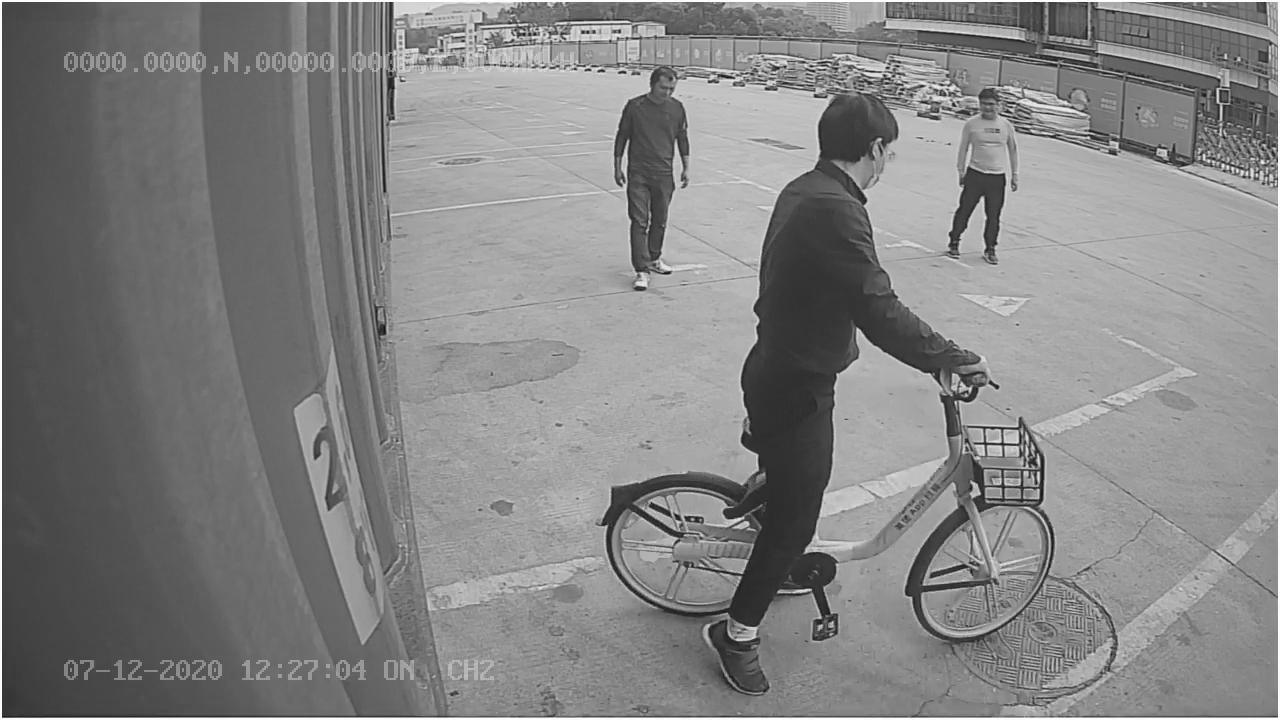person: (603, 58, 696, 293)
